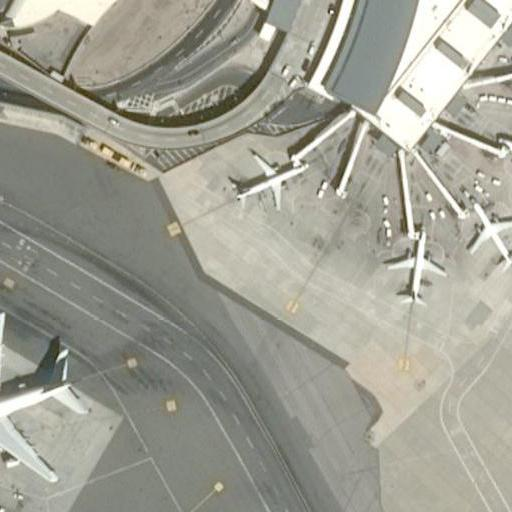Aircraft: (0, 299, 86, 486), (229, 140, 316, 213), (375, 222, 449, 302), (458, 195, 512, 271), (493, 114, 512, 196), (509, 35, 512, 102)
